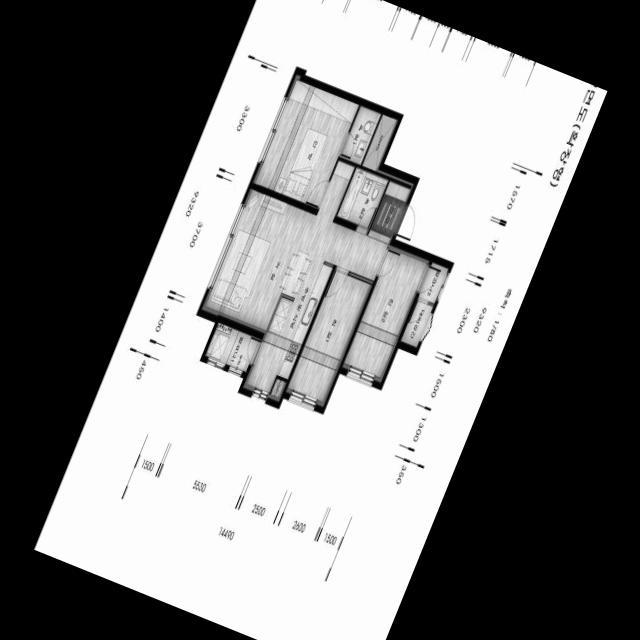background: (33, 0, 607, 640)
space_balconi: (204, 322, 261, 371), (417, 262, 448, 303)
space_bedroom: (252, 74, 358, 208), (341, 245, 428, 382), (285, 270, 371, 406)
space_front: (367, 180, 411, 244)
space_kitchen: (242, 253, 332, 392)
space_living_room: (201, 160, 387, 333)
space_other: (361, 114, 397, 171), (400, 300, 432, 347)
space_toilet: (336, 167, 388, 228), (339, 105, 380, 165)
